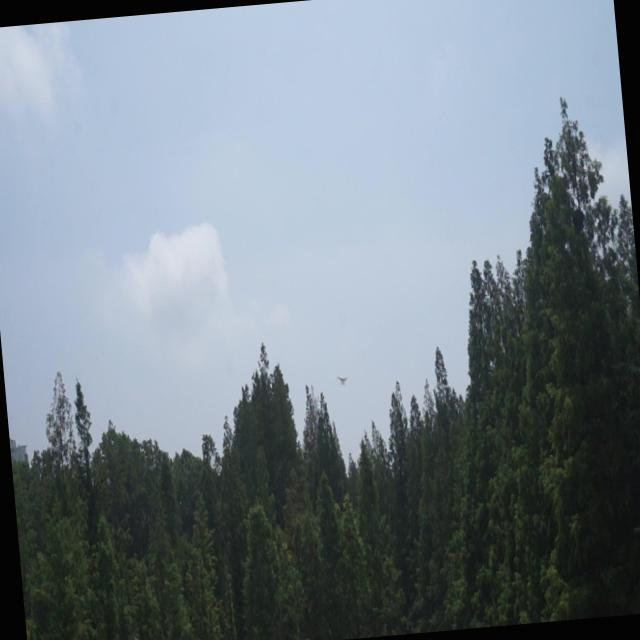drone: (334, 368, 350, 389)
